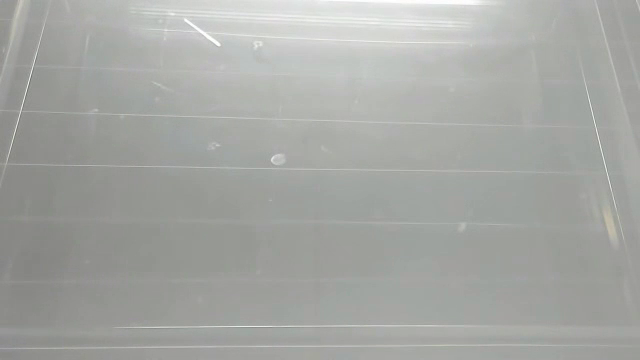alpha: (180, 14, 228, 51), (452, 209, 480, 238), (267, 148, 293, 170)
